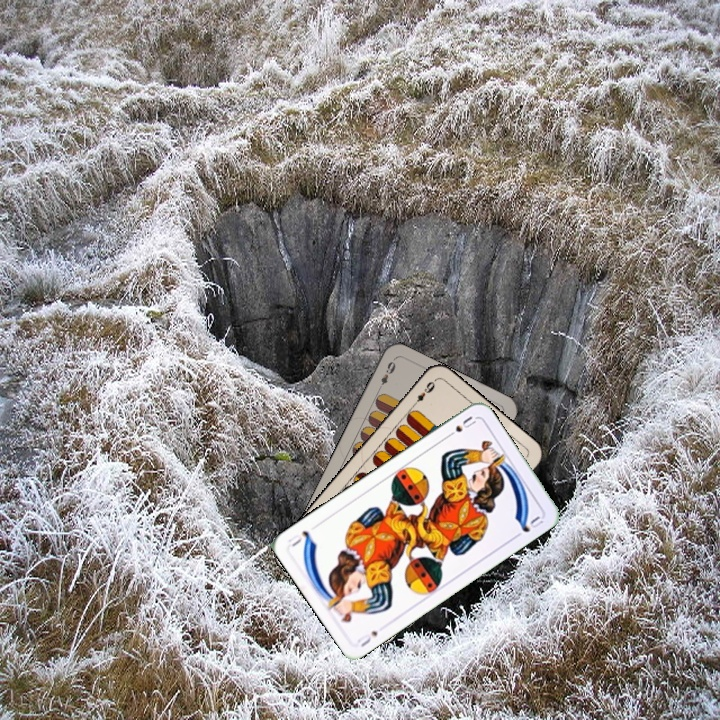E9: (408, 376, 438, 410), (374, 356, 398, 394)
SU: (442, 412, 479, 441), (353, 627, 381, 650)
